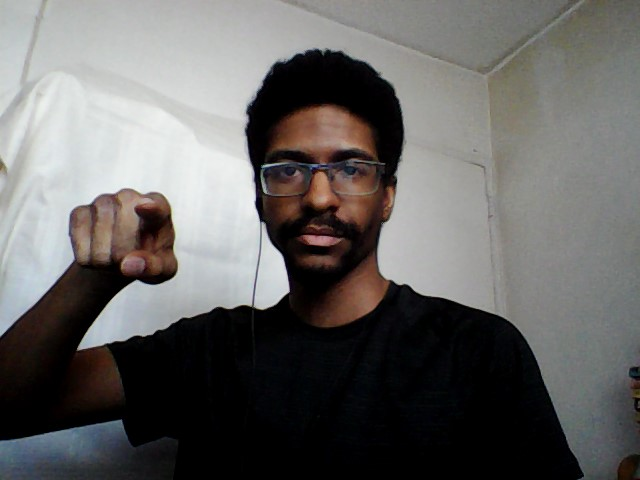z: (66, 185, 181, 287)
